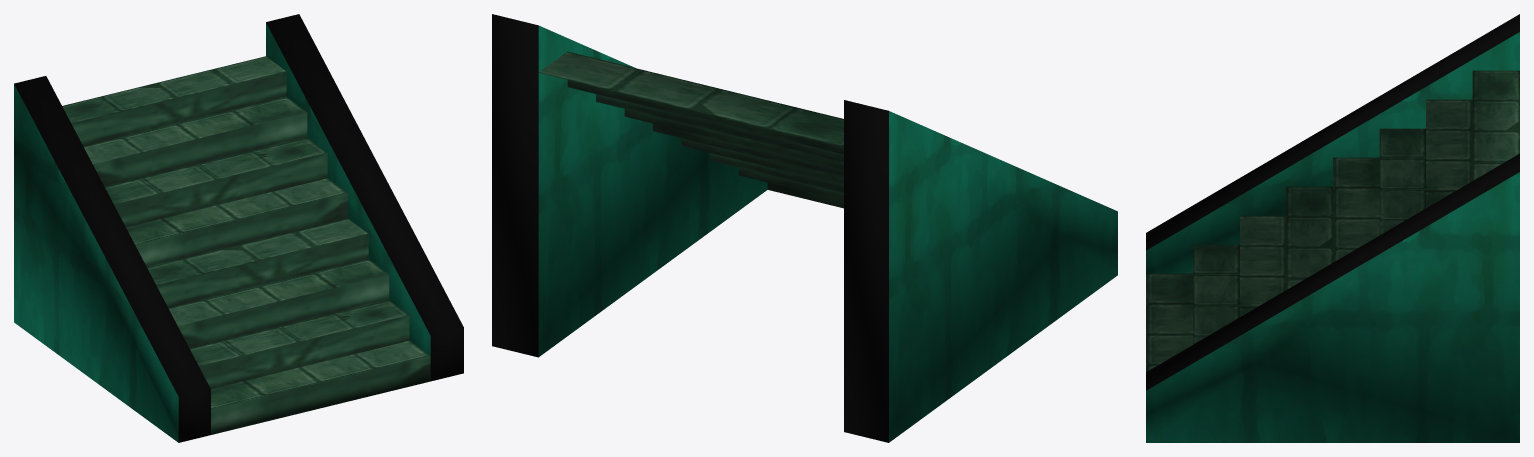
Rendered from Frogames_DP_stairs.FBX.
3 renders of one model, left to right at view 1: azimuth 30°, elevation 25°; view 2: azimuth 150°, elevation 25°; view 3: azimuth 270°, elevation 25°, orthographic. The views are drawn at different scales.
Parts seen in each view (by area): view 1: stairs; view 2: stairs; view 3: stairs.
Part boxes in pixels (x1,y1,x2,y2): stairs: (14, 14, 463, 442); stairs: (492, 14, 1117, 442); stairs: (1146, 14, 1519, 442).
Bounding box in the file's own units: 10 × 10 × 8.
